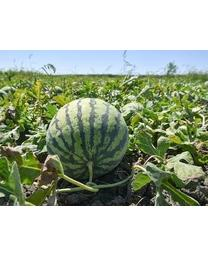watermelon: (48, 98, 128, 176)
